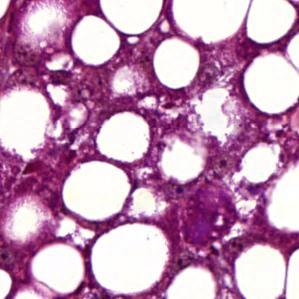steatosis: (99, 112, 153, 164), (71, 15, 121, 66), (150, 36, 197, 86)
